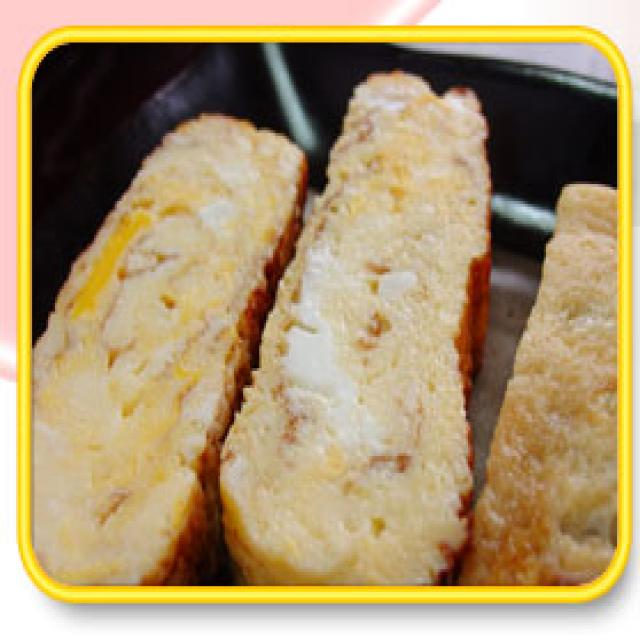鸡蛋料理: (55, 66, 594, 566)
